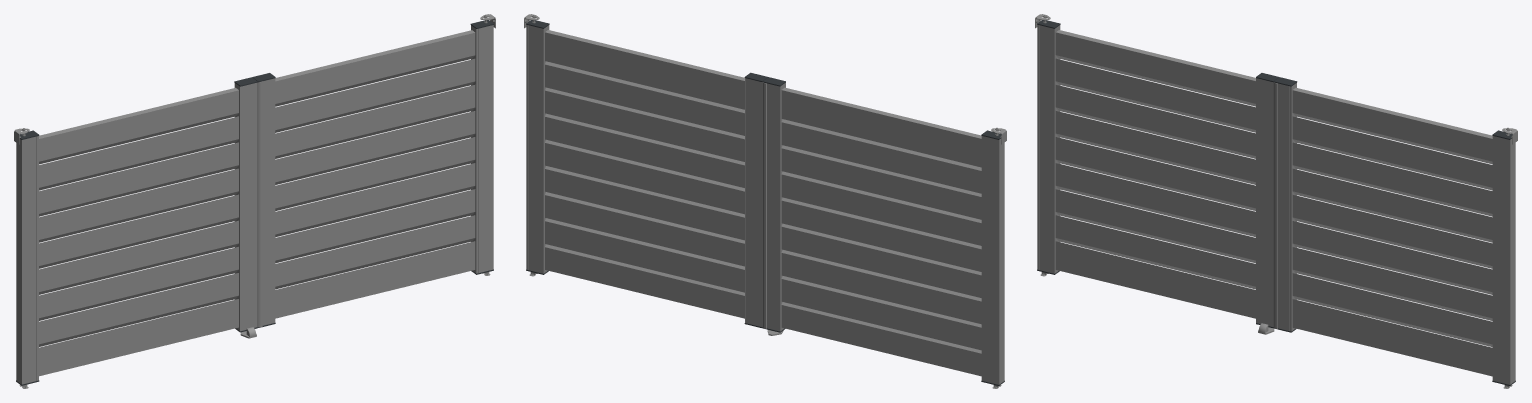
The picture shows the model from 3 angles, left to right: view 1: azimuth 30°, elevation 25°; view 2: azimuth 150°, elevation 25°; view 3: azimuth 330°, elevation 25°; orthographic projection.
Visible parts, largest first — view 1: Shape107412842, Shape107412841, Shape176, Shape003, Shape107412643, Shape107412845, Shape107412848, Shape107412849, Shape107412843, Shape107412846, Shape107412844, Shape107412847 (+11 smaller); view 2: Shape003, Shape107412841, Shape107412643, Shape3, Shape177, Shape179, Shape181, Shape182, Shape178, Shape180, Shape107412849, Shape176 (+11 smaller); view 3: Shape176, Shape107412842, Shape107412841, Shape003, Shape107412971, Shape180, Shape107412843, Shape107412845, Shape182, Shape107412844, Shape178, Shape107412846 (+11 smaller).
Boxes of the visible parts, x1,y1,x2,y2 form: Shape107412842: (275,241,475,318); Shape107412841: (275,30,475,106); Shape176: (39,299,238,376); Shape003: (39,87,238,164); Shape107412643: (16,136,38,384); Shape107412845: (275,137,475,210); Shape107412848: (275,215,475,289); Shape107412849: (275,59,475,132); Shape107412843: (275,85,475,158); Shape107412846: (275,163,475,237); Shape107412844: (275,111,475,184); Shape107412847: (275,189,475,263); Shape003: (781,87,981,167); Shape107412841: (545,30,744,109); Shape107412643: (981,136,1004,384); Shape3: (781,119,981,193); Shape177: (781,145,981,219); Shape179: (781,197,981,271); Shape181: (781,250,981,324); Shape182: (781,276,981,350); Shape178: (781,171,981,245); Shape180: (781,223,981,297); Shape107412849: (545,61,744,135); Shape176: (781,302,981,376); Shape176: (1055,241,1255,318); Shape107412842: (1292,299,1492,376); Shape107412841: (1292,87,1492,164); Shape003: (1055,30,1255,106); Shape107412971: (1492,136,1515,384); Shape180: (1055,163,1255,237); Shape107412843: (1292,142,1492,216); Shape107412845: (1292,194,1492,268); Shape182: (1055,215,1255,289); Shape107412844: (1292,168,1492,242); Shape178: (1055,111,1255,184); Shape107412846: (1292,221,1492,294).
Bounding box in the file's own units: 3259 × 1693 × 116.
Materials: 7 (2 with a texture image).
